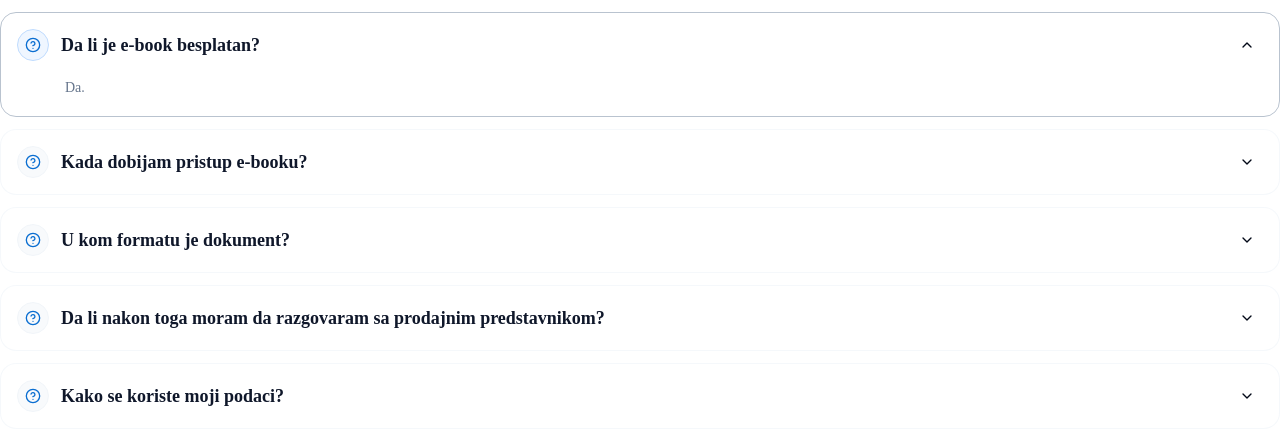
it: the FAQ accordion › opening another item mounts its answer and unmounts the previous one
The image size is (1280, 429).
Click the button "U kom formatu je dokument?".
click(33, 240)  # box [17, 208, 1263, 272]
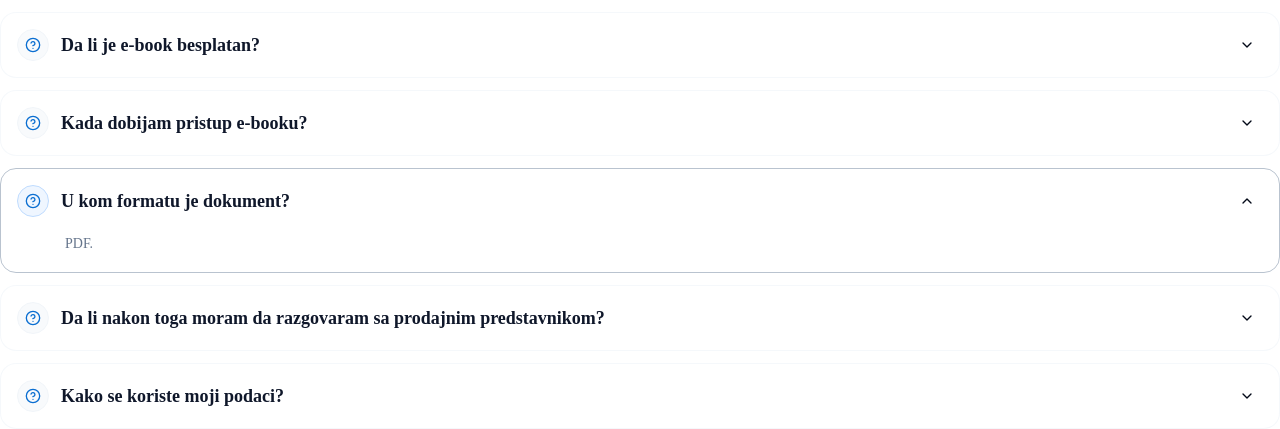
Expected: the text "Da." is not shown
Expected: the text "PDF." is shown, [65, 236, 93, 251]
